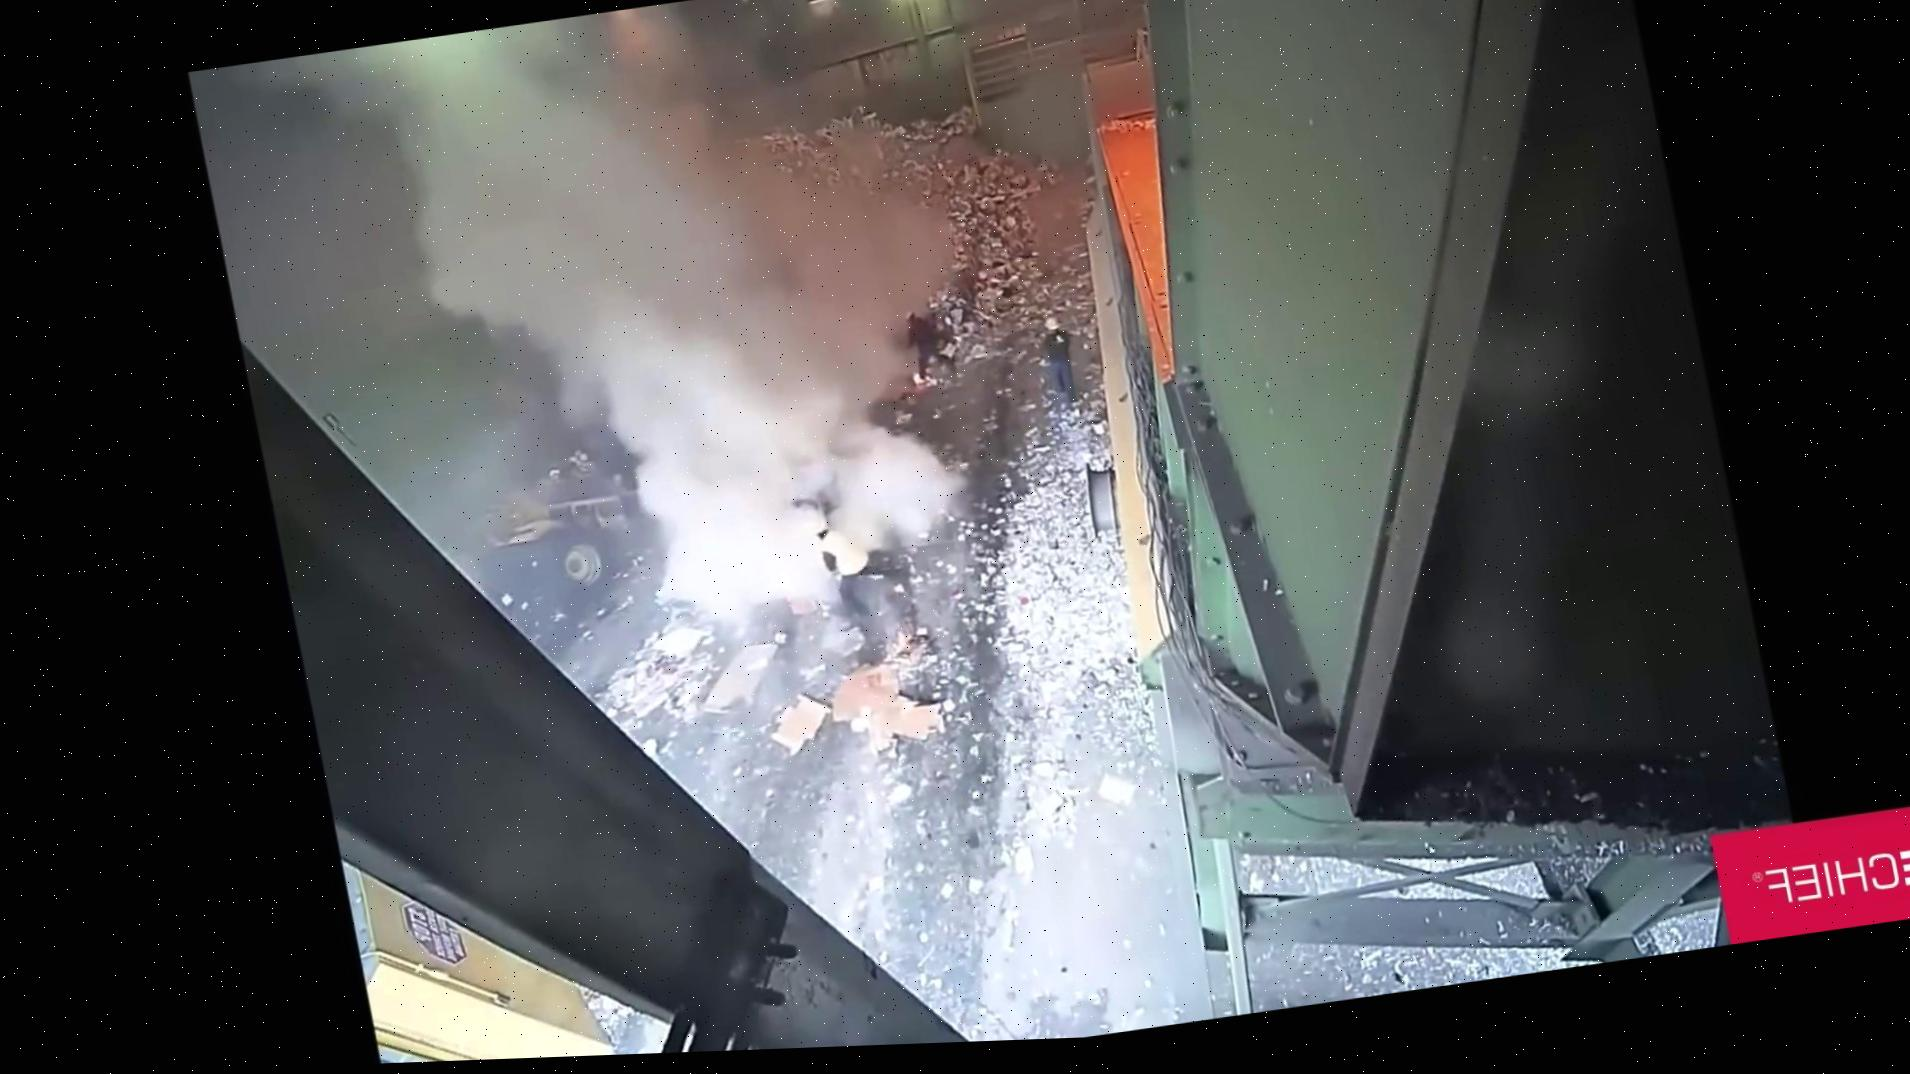smoke: (445, 144, 1017, 620)
